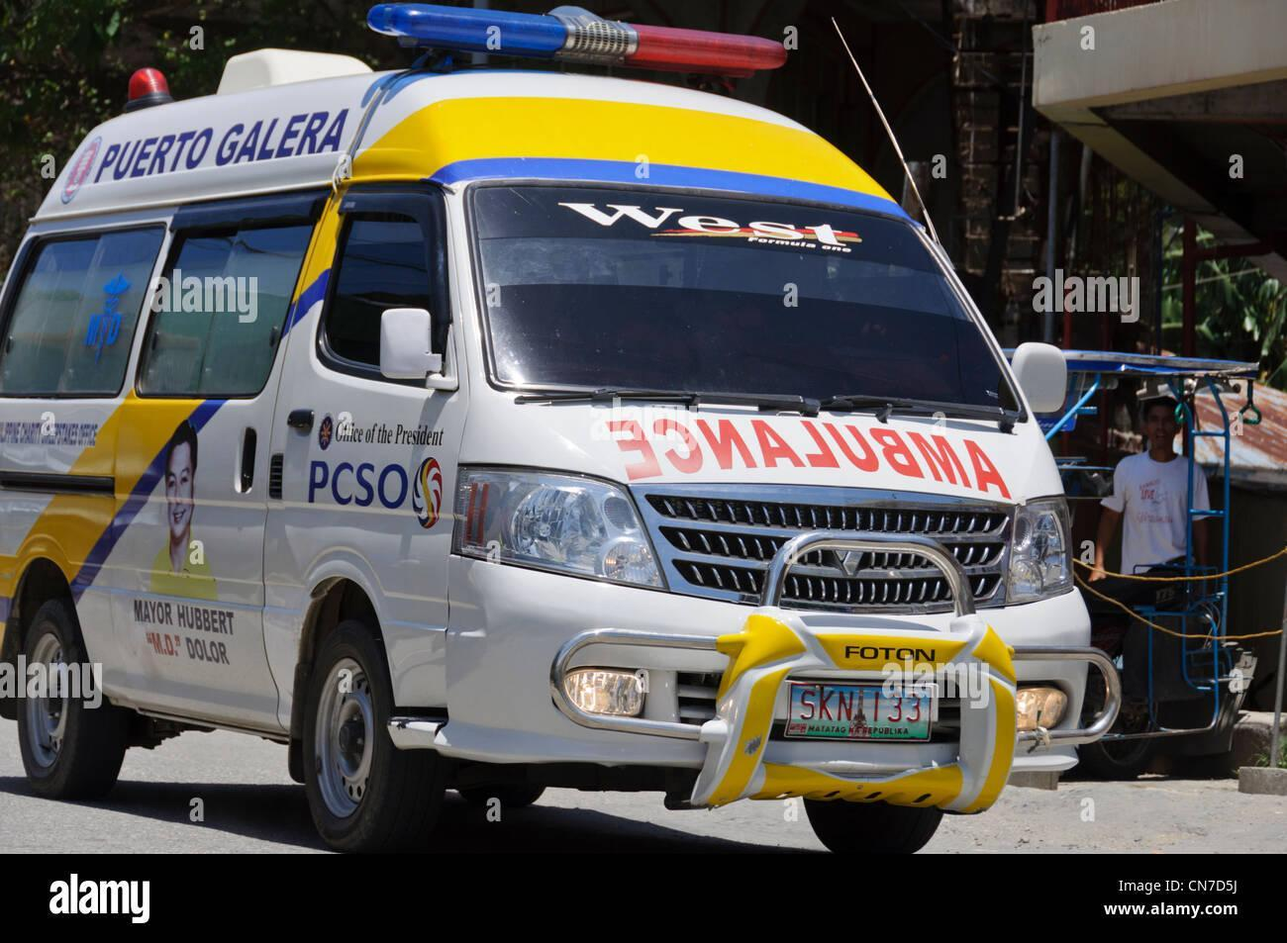Ambulance: (612, 415, 1012, 502)
